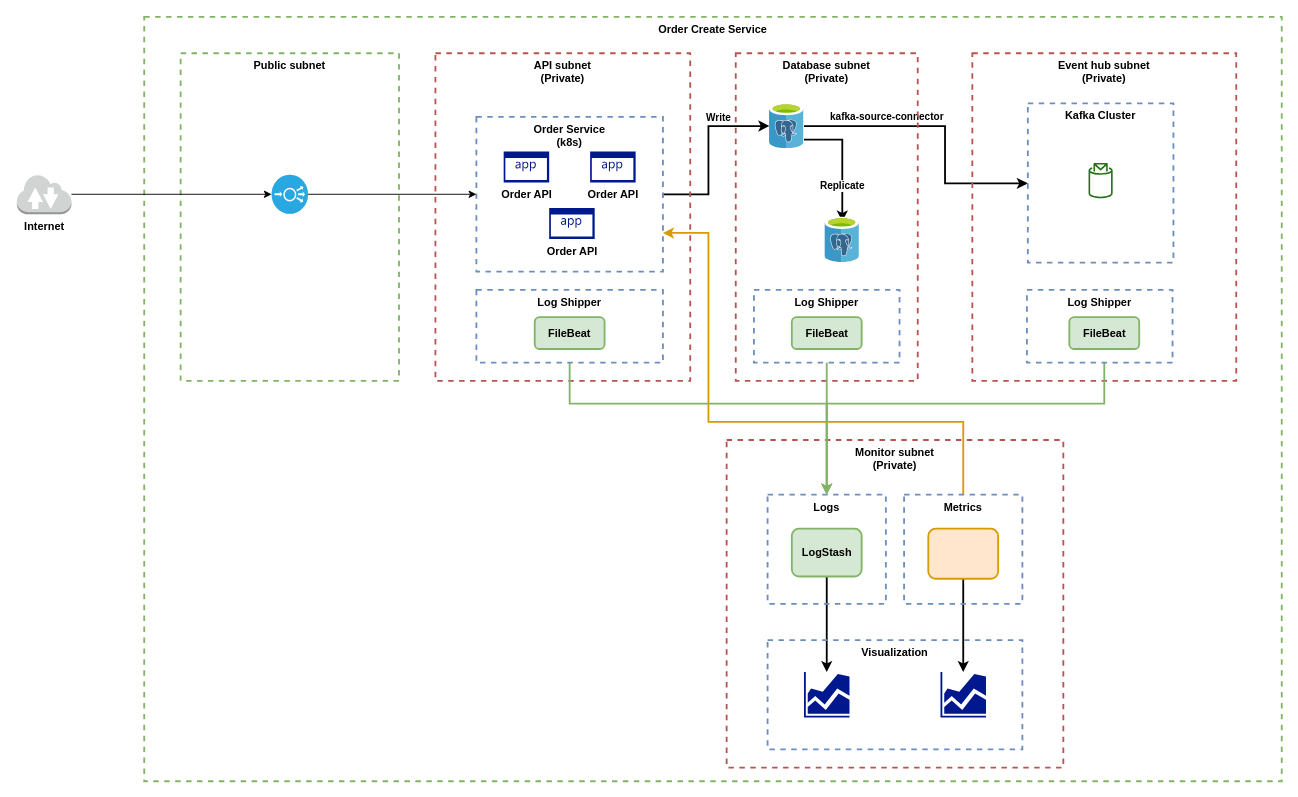
This 1298x797 diagram has some shape labels left out. Here are the shapes that lost their labels. From the top down, the centre of each, then its label:
At [786,125]: "Write DB".
At [289,194]: "Load balancer (nginx-ingress-controller)".
At [1100,180]: "Order Topic".
At [841,239]: "Query DB".
At [963,553]: "Prometheus".
At [826,694]: "Kibana".
At [963,694]: "Grafana".
